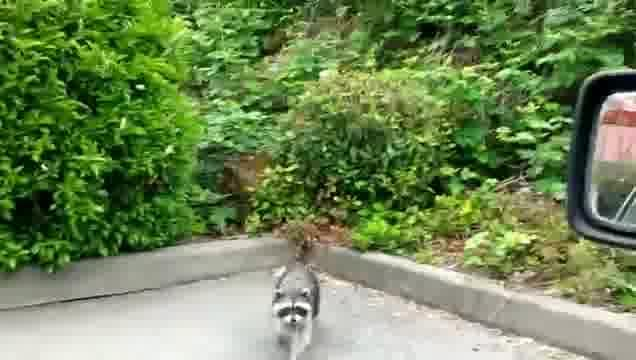raccoon: (270, 262, 322, 360)
